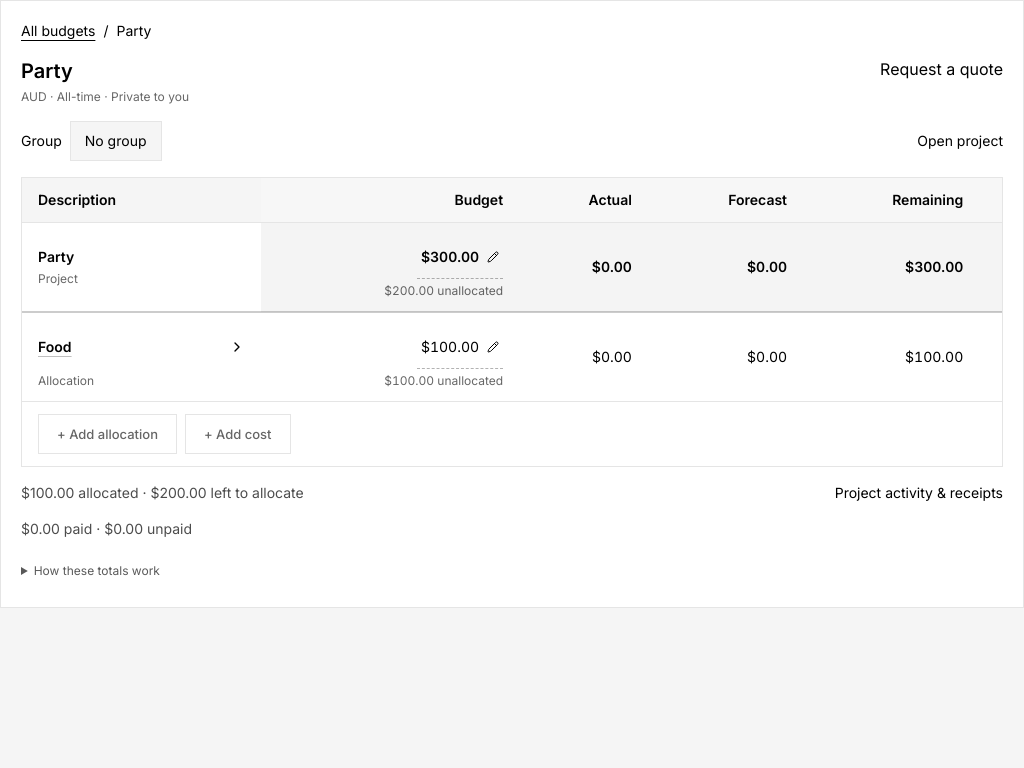
Test: creates an allocation in the project and starts new costs in the selected allocation with receipt upload
Click the button "+ Add allocation". click: (108, 434)
box: [38,414,177,454]
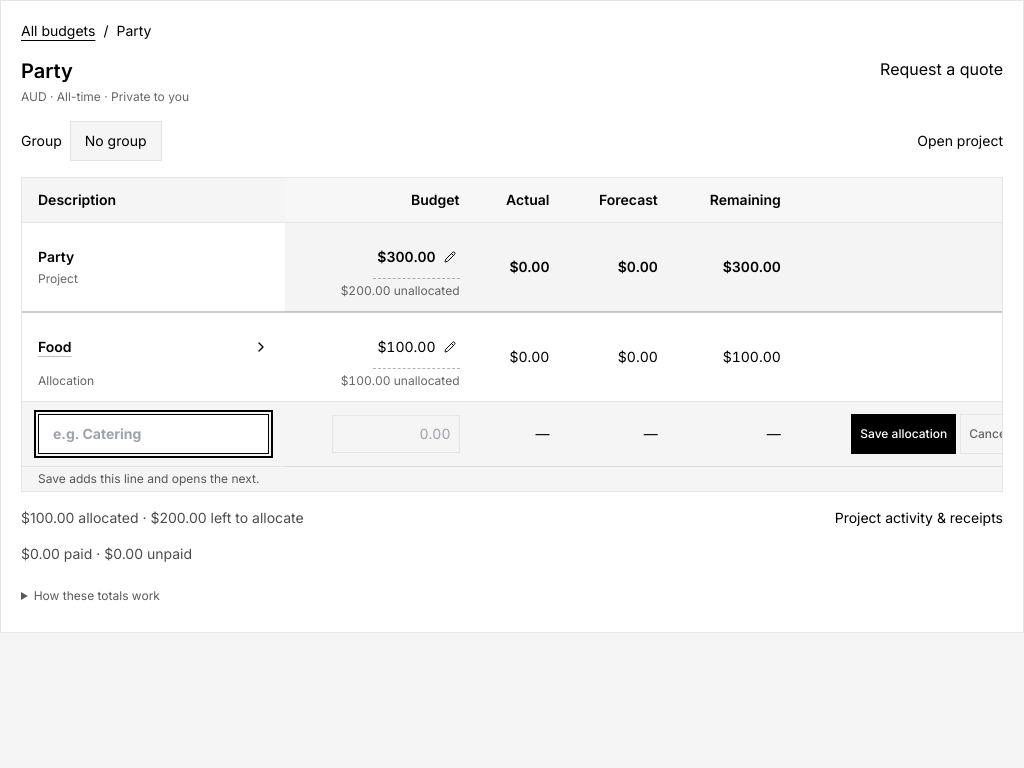
Type "Venue" into the field named "Allocation name". click: (153, 434)
box: [38,414,269,454]
Type "75.29" into the field named "Budget (AUD)". click: (396, 434)
box: [332,415,460,453]
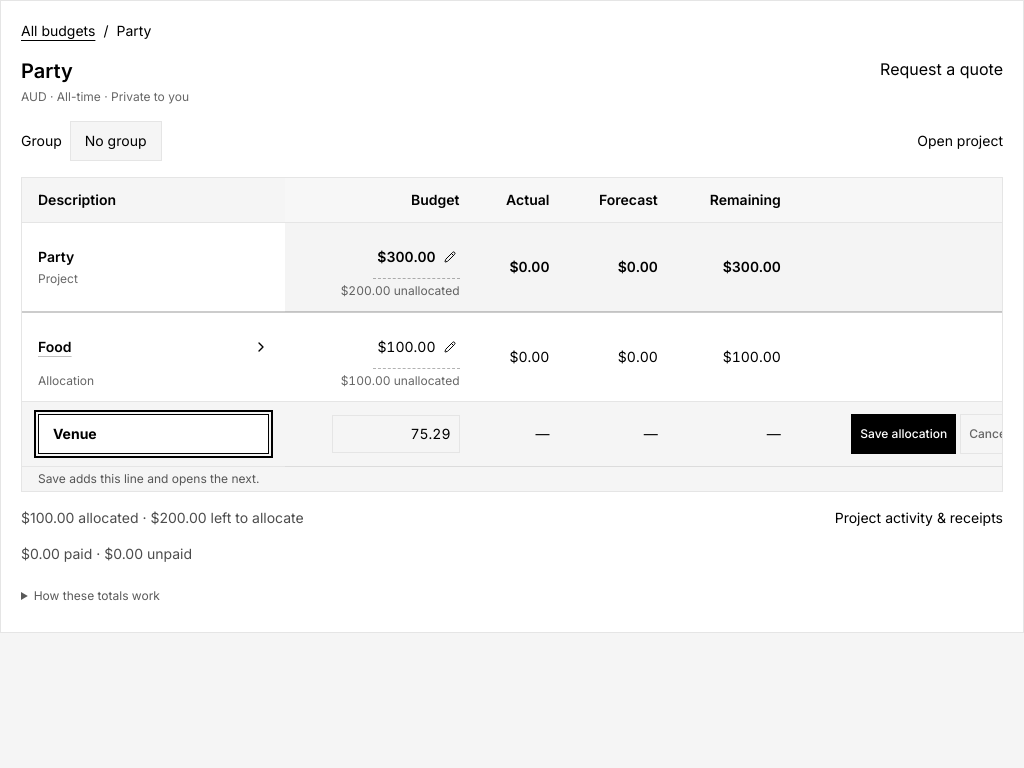
Click the button "Save allocation". click: (904, 434)
box: [851,414,956,454]
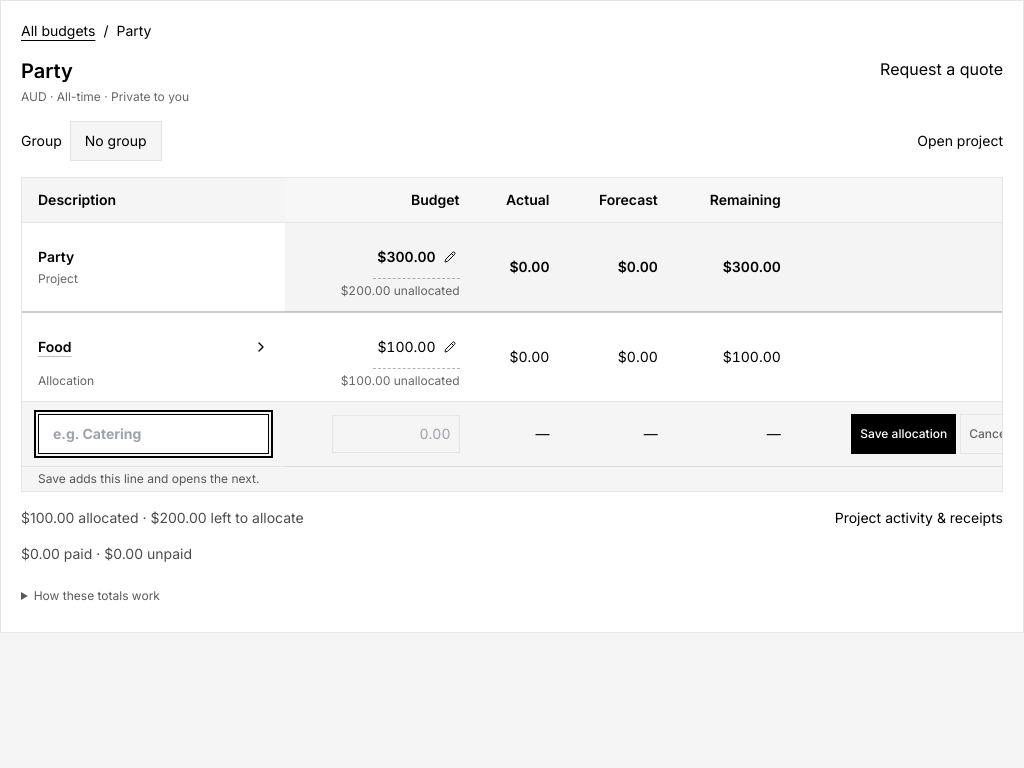
Now the field named "Allocation name" is empty, box [38,414,269,454]
Now the field named "Budget (AUD)" is empty
Press Escape in the field named "Budget (AUD)", box [332,415,460,453]
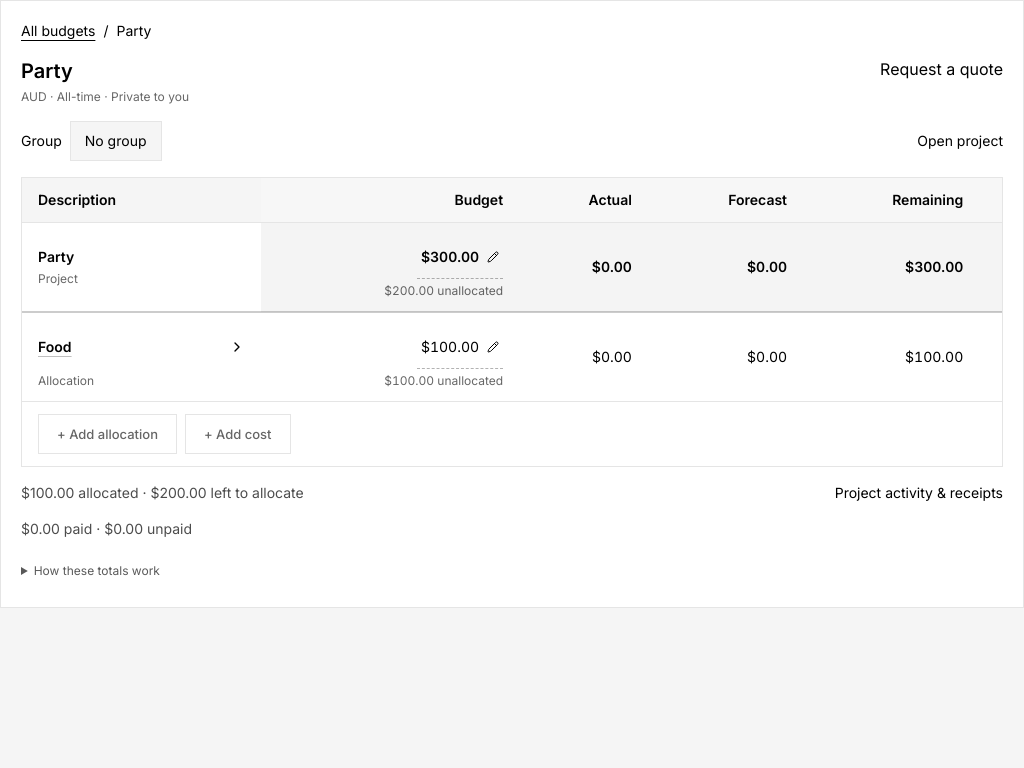
Now the button "+ Add allocation" is shown, box [38,414,177,454]
Click the button with aria-label "Open Food budget". click: (142, 347)
box: [38,325,245,369]
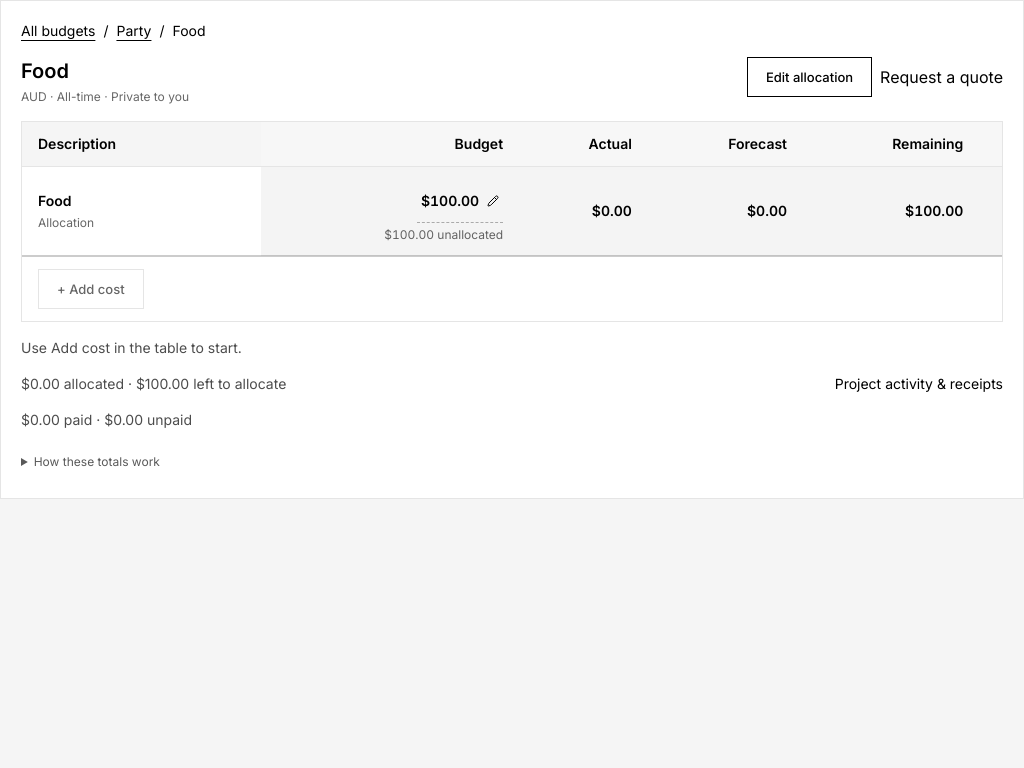
Click the button "+ Add cost". click: (91, 289)
box: [38,269,144,309]
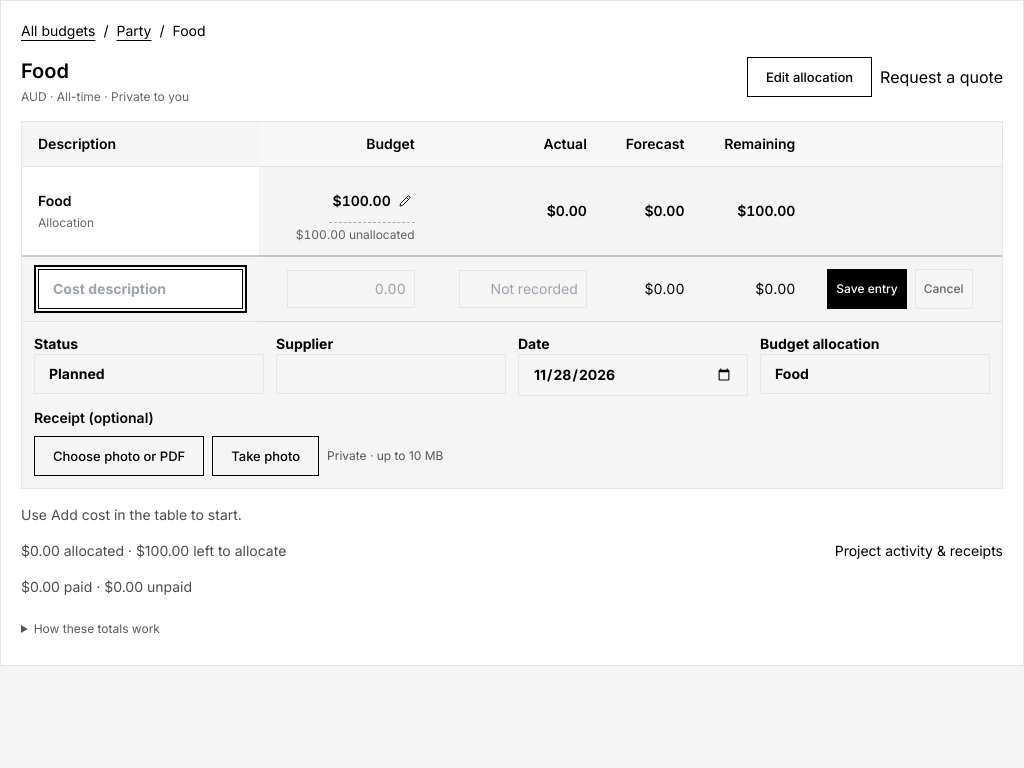
Now the dropdown labelled "Budget allocation" shows "Food", box [760,354,990,394]
